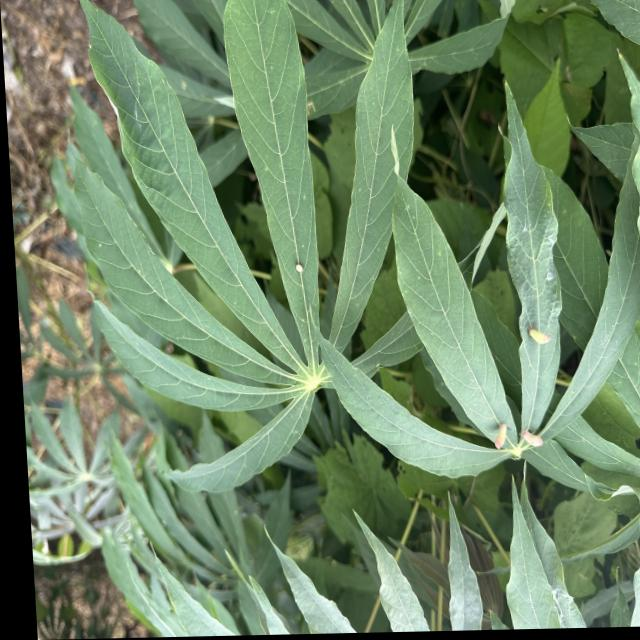Mosca: (484, 415, 556, 464), (517, 313, 566, 354), (288, 257, 320, 284)
